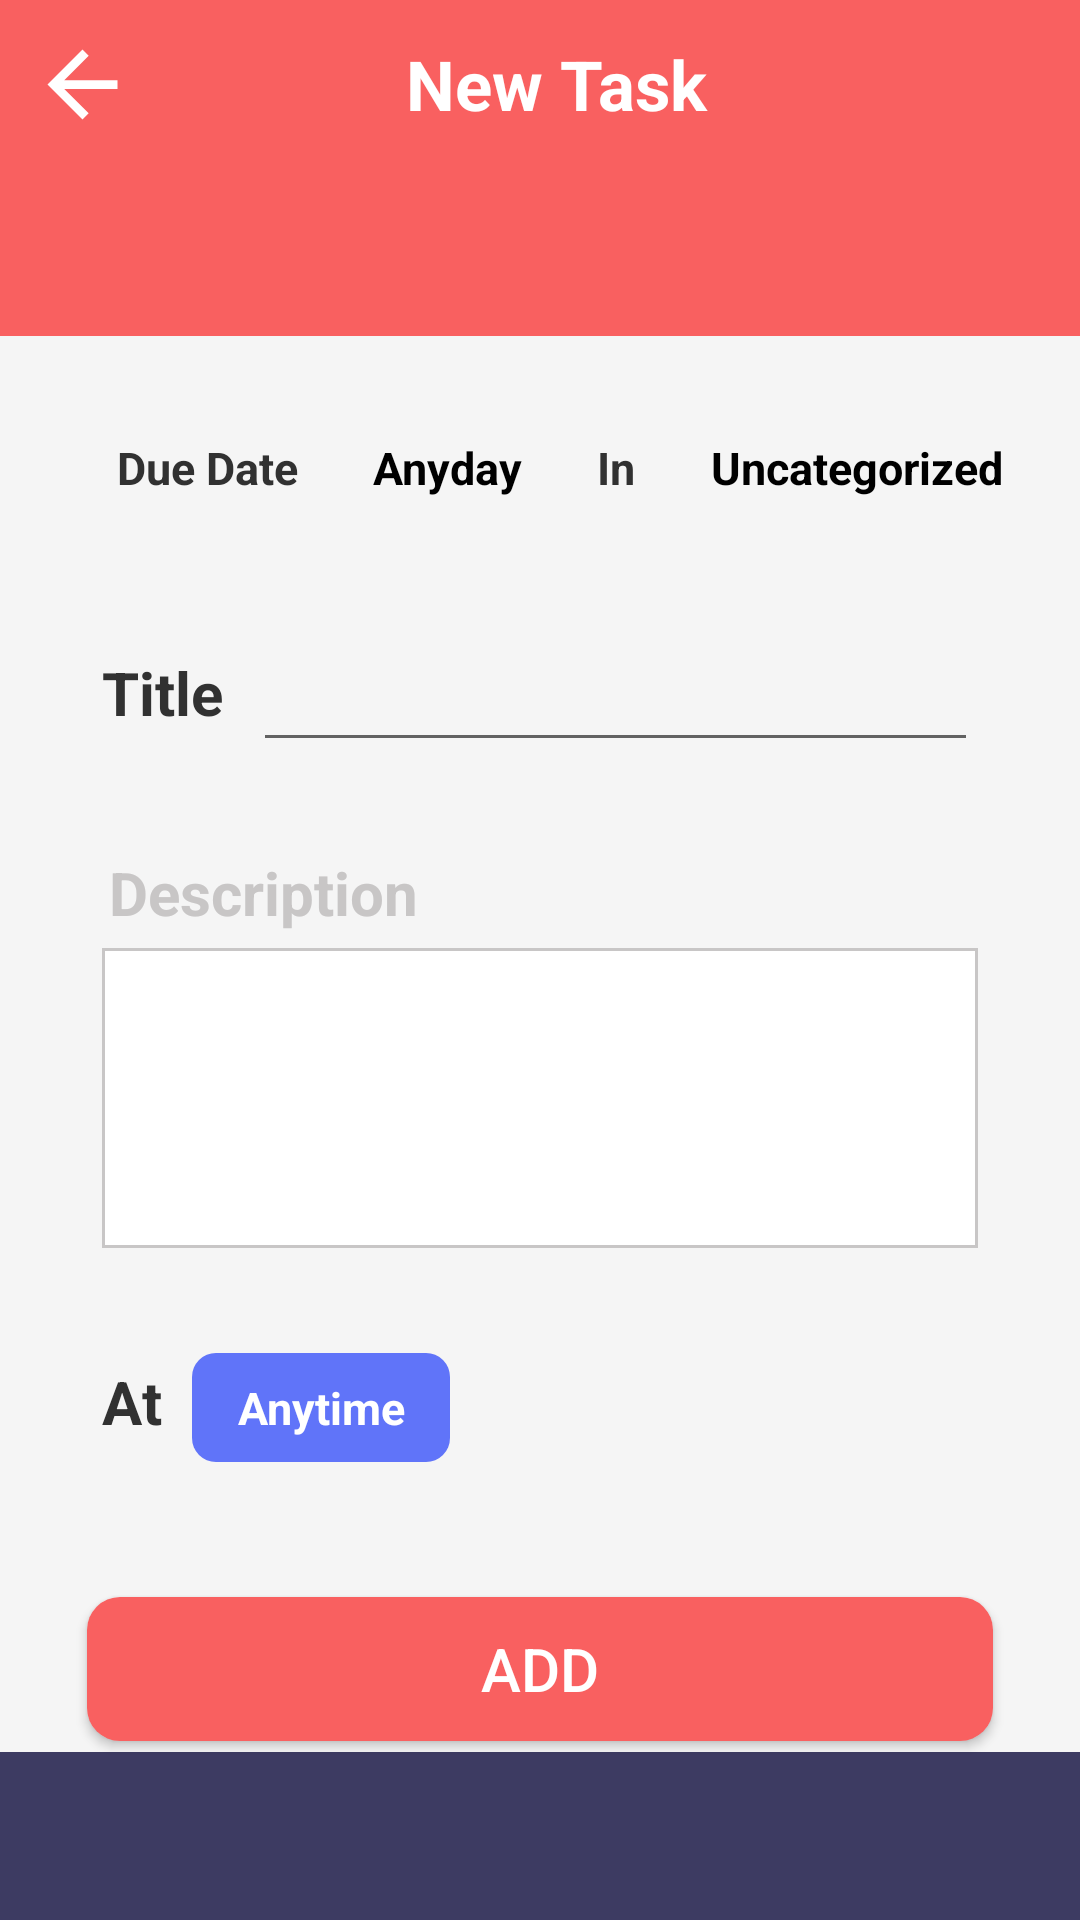

Screen size 1080px x 1920px. Icon name, then its center in pixels as (x,y):
arrow back: (82,84)
